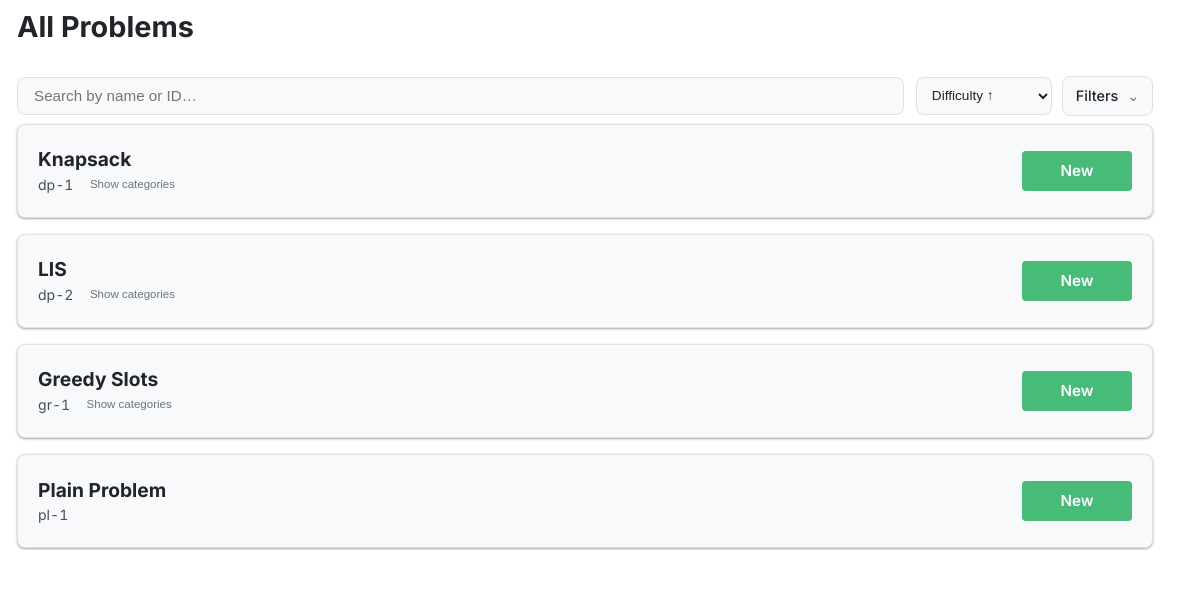
Problems Page › category filters (global counts, server-side filter) › hides category badges by default and shows only the selected one when filtered
expect the heading "Knapsack" is shown: met, box top-left (38, 147), bottom-right (131, 171)
expect the text "Dynamic Programming" is not shown: met
Click the heading "Filters ⌄" at (1108, 96), box top-left (1062, 76), bottom-right (1153, 116)
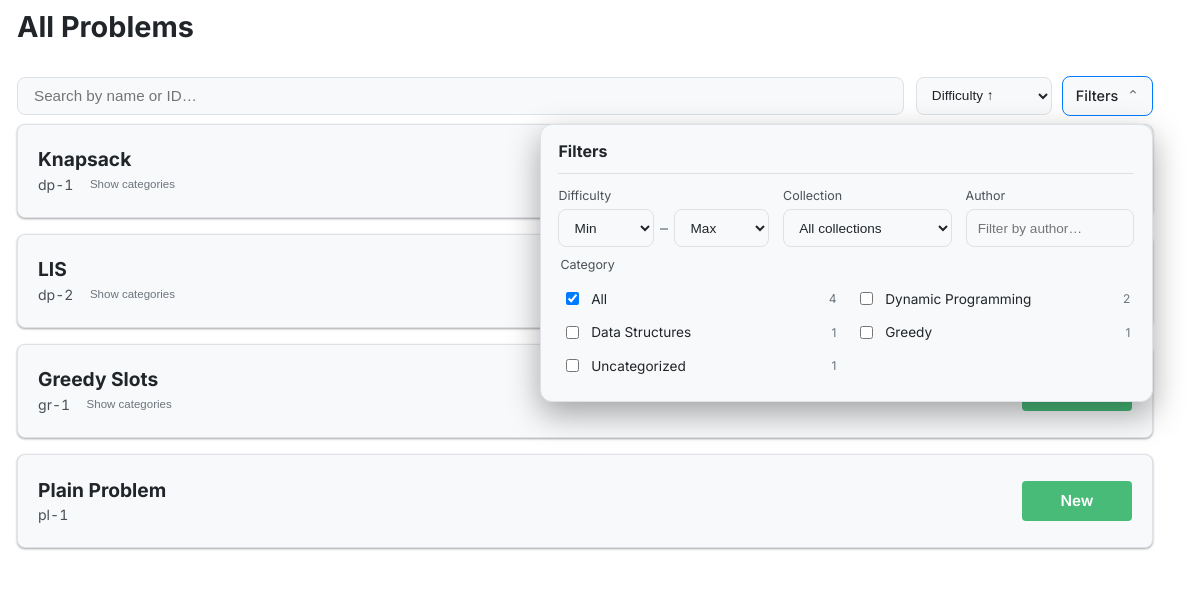
Click the checkbox labelled "Dynamic Programming 2" at (867, 299), box top-left (860, 292), bottom-right (873, 305)
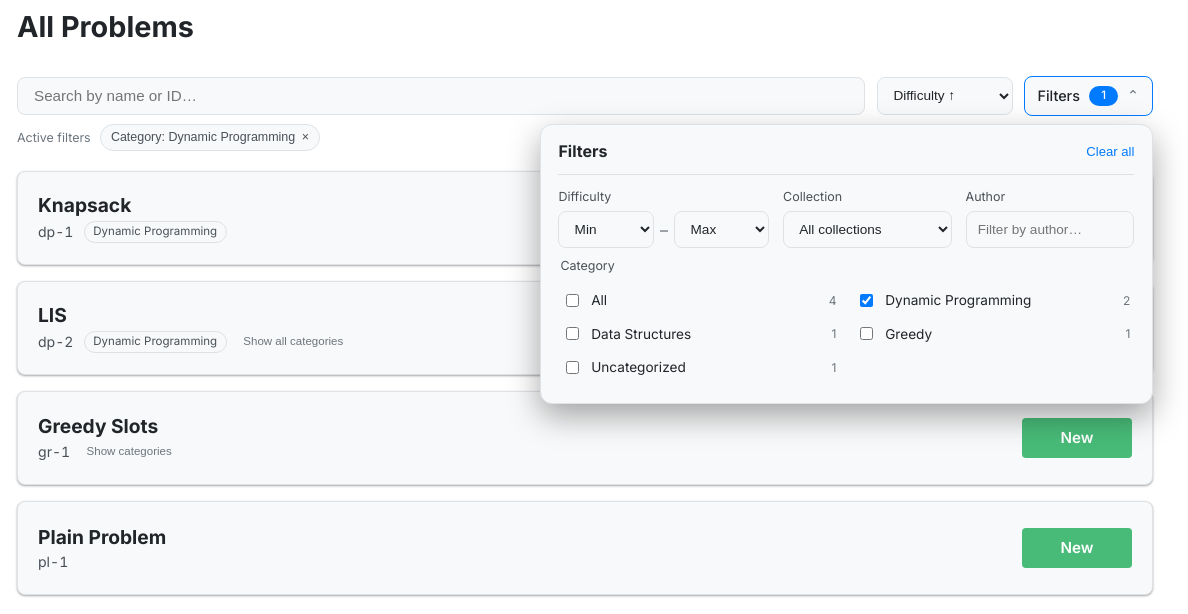
expect the text "Dynamic Programming" next to "dp-1" is shown: met, box top-left (93, 224), bottom-right (217, 238)
expect the text "Dynamic Programming" next to "dp-2" is shown: met, box top-left (93, 334), bottom-right (217, 348)
Click the checkbox labelled "Dynamic Programming 2" at (867, 300), box top-left (860, 294), bottom-right (873, 307)
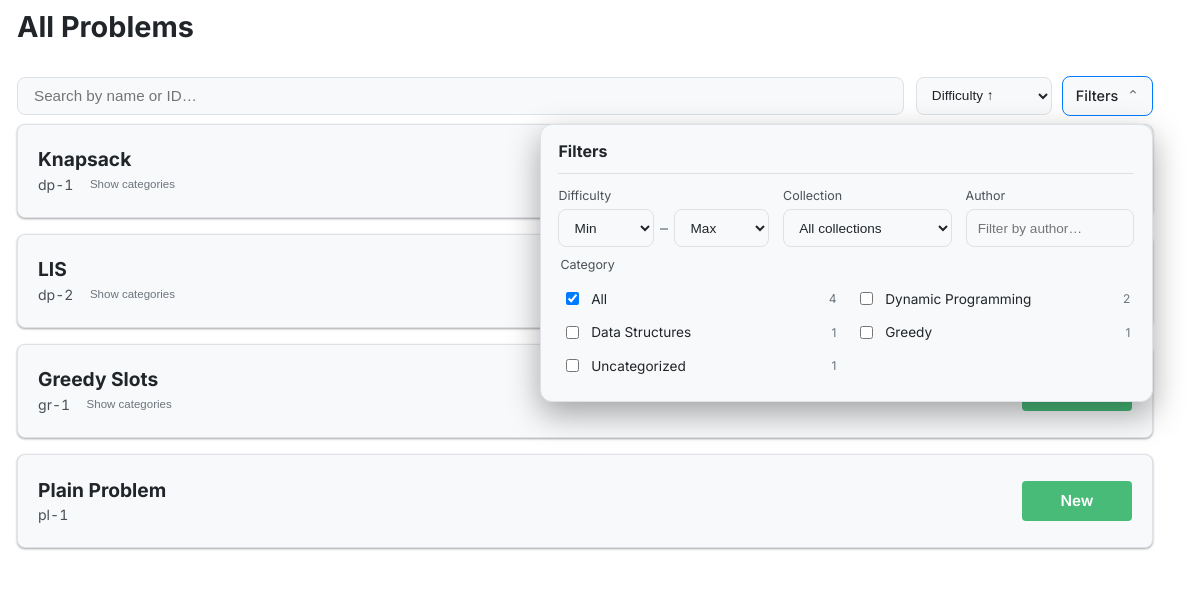
Click the checkbox labelled "Greedy 1" at (867, 332), box top-left (860, 326), bottom-right (873, 339)
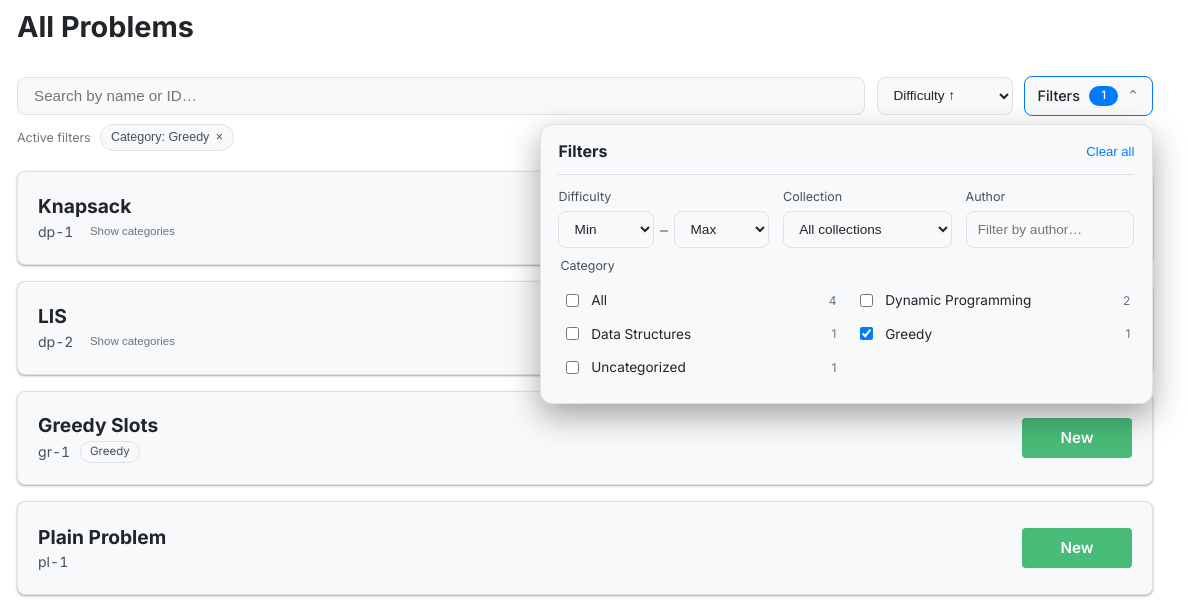
expect the text "Greedy" next to "gr-1" is shown: met, box top-left (90, 444), bottom-right (130, 458)
